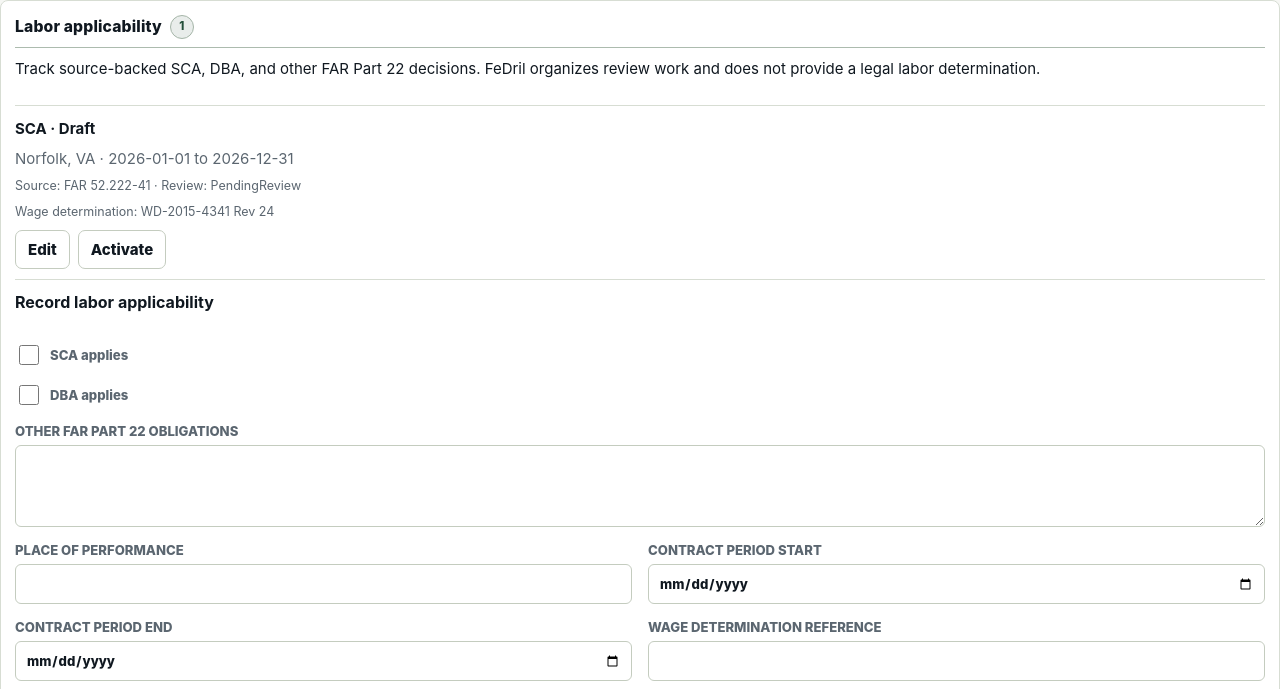
LaborApplicabilityPanel › TC-32.1.3 surfaces source-backed activation validation and TC-32.1.4 task synchronization
Click the button "Activate": (122,249) [78, 230, 166, 269]
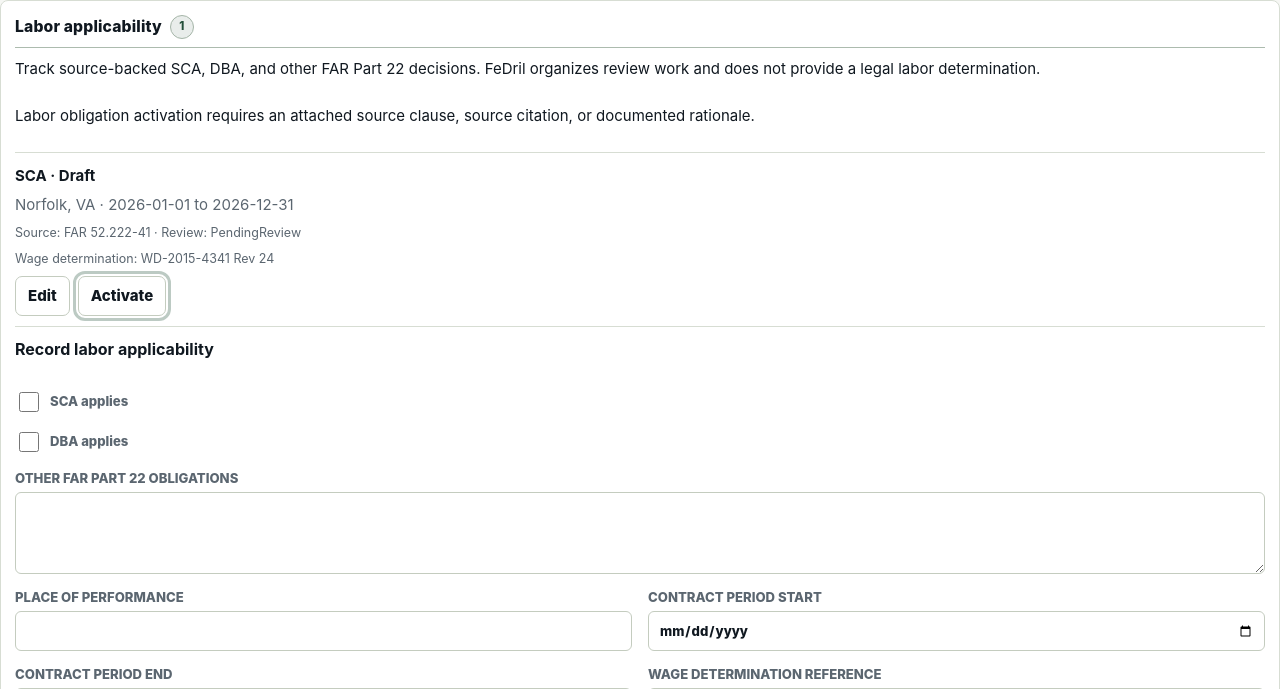
Result: the message shows "requires an attached source clause" at [15, 106, 755, 125]
Click the button "Activate": (122,296) [78, 276, 166, 316]
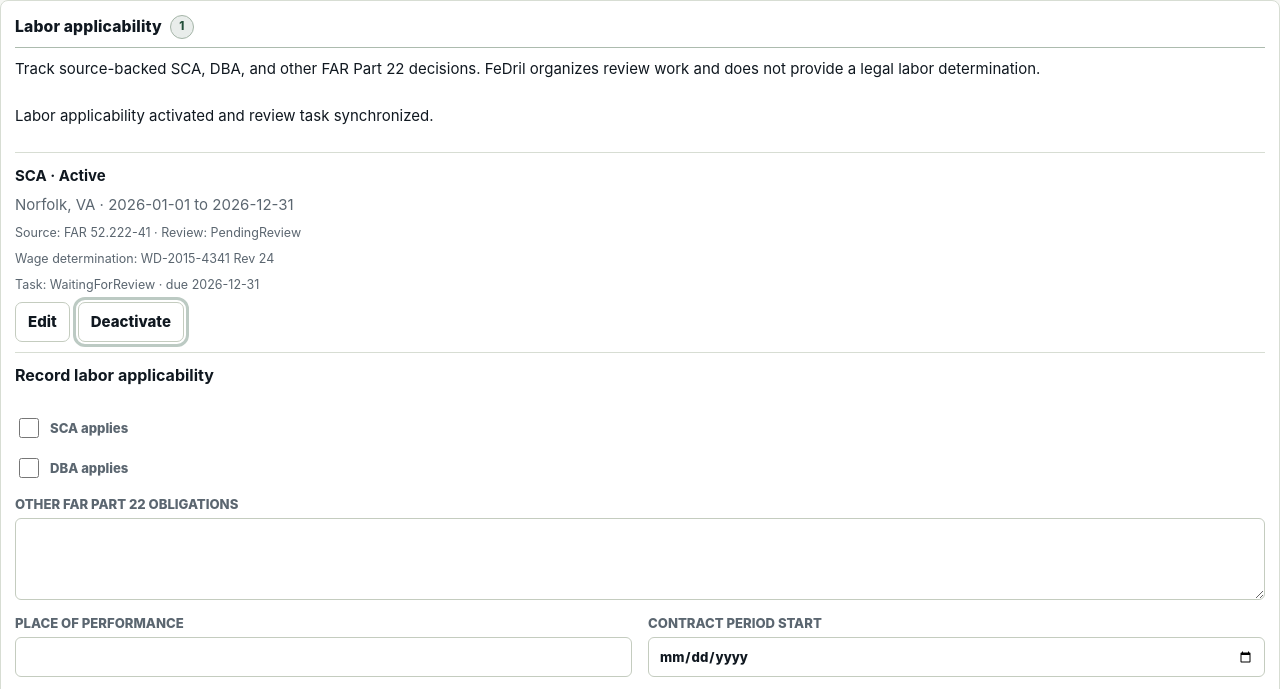
Result: the text "Labor applicability activated and review task synchronized." is shown at [15, 106, 434, 125]
Result: the text "Task: WaitingForReview · due 2026-12-31" is shown at [15, 277, 259, 292]
